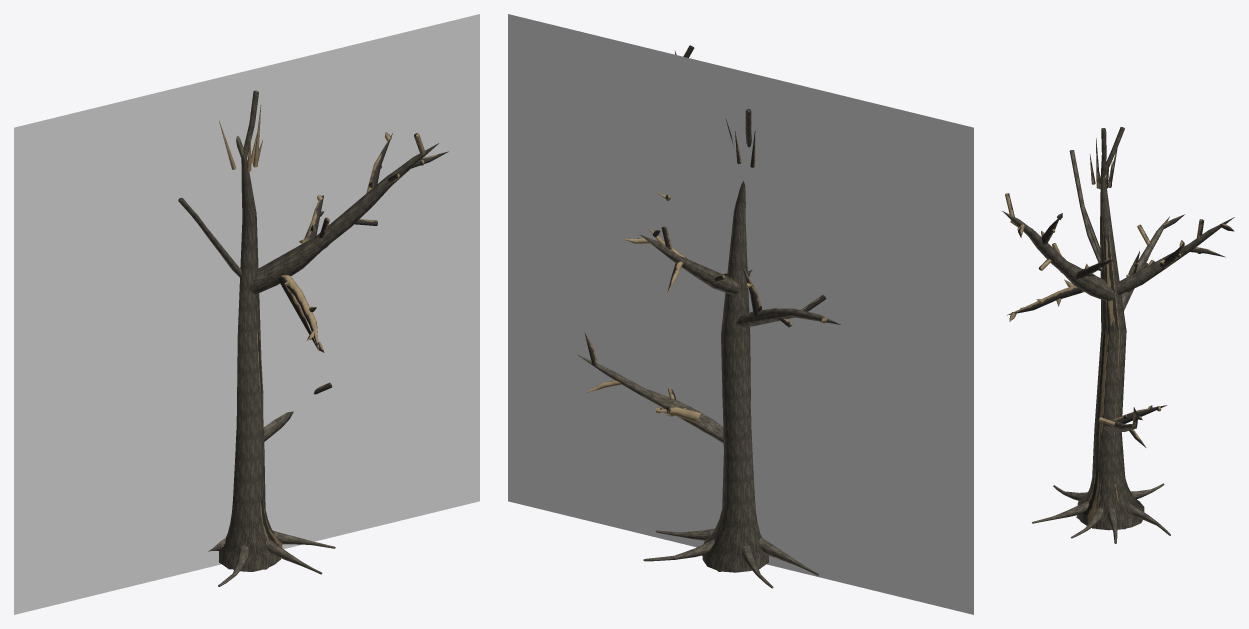
Rendered from foudroye_adulte_c.fbx.
3 views of the same model, side by side, from view 1: azimuth 30°, elevation 25°; view 2: azimuth 150°, elevation 25°; view 3: azimuth 270°, elevation 25° (orthographic). The views are drawn at different scales.
Parts seen in each view (by area): view 1: foudroye_adulte_c_LOD3, foudroye_adulte_c_LOD1, foudroye_adulte_c_LOD2; view 2: foudroye_adulte_c_LOD3, foudroye_adulte_c_LOD1, foudroye_adulte_c_LOD2; view 3: foudroye_adulte_c_LOD1, foudroye_adulte_c_LOD2.
Boxes of the visible parts, left/top/right/bottom form: foudroye_adulte_c_LOD3: left=14, top=14, right=479, bottom=614; foudroye_adulte_c_LOD1: left=178, top=90, right=448, bottom=586; foudroye_adulte_c_LOD2: left=178, top=90, right=447, bottom=586; foudroye_adulte_c_LOD3: left=508, top=14, right=973, bottom=614; foudroye_adulte_c_LOD1: left=577, top=45, right=840, bottom=588; foudroye_adulte_c_LOD2: left=585, top=45, right=827, bottom=587; foudroye_adulte_c_LOD1: left=1002, top=127, right=1234, bottom=543; foudroye_adulte_c_LOD2: left=1005, top=127, right=1232, bottom=543.
Size of what is drawn, in the model's own units: 14 by 14 by 7.21.
